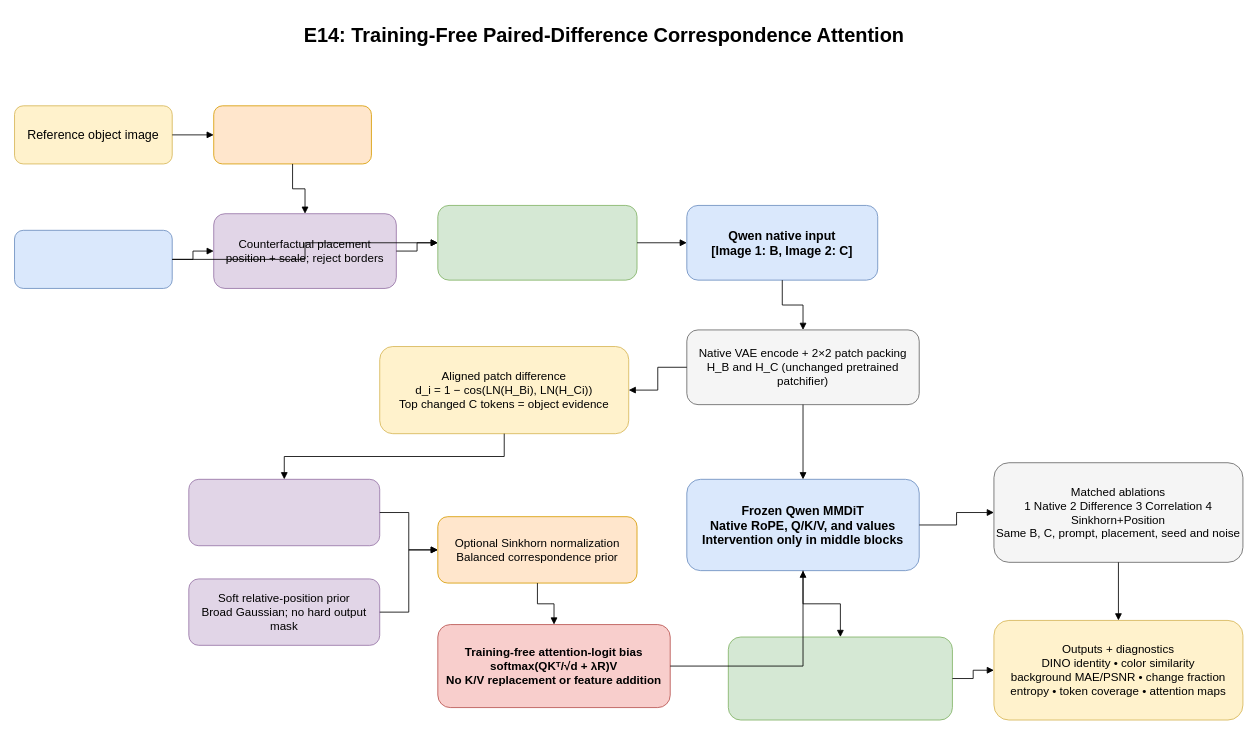
This 1257x735 diagram has some shape labels left out. The shapes that lost their labels are listed below. From the top down, each one's box as (x1, y1, x2, y2) in pixels, then its label:
(213, 105, 371, 164): RMBG-2.0 clean cutout + alpha
(14, 229, 172, 288): Base image B
(437, 205, 637, 280): Aligned collage C = B + O Known geometry; no postprocess mask
(188, 478, 380, 546): Output ↔ evidence correlation S_qi = cos(Q_Xq, K_Ci)
(727, 636, 952, 720): Single decoded output No latent blending No second pass or pixel postprocessing
